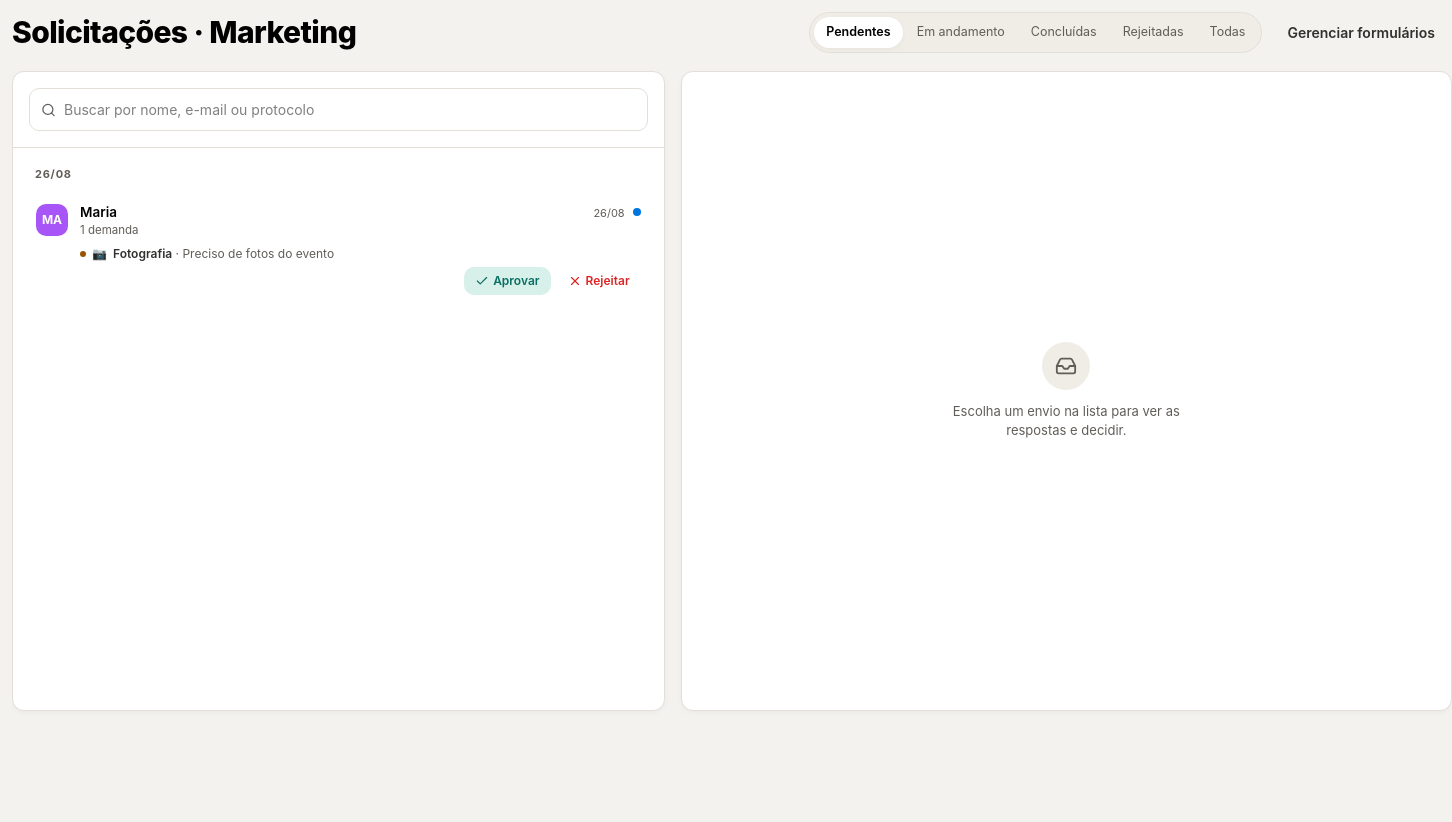
it: um envio SEM telefone, área e polo › ⚠️ o card não mostra separador pendurado
Step 1. Click the text "Maria" → [98, 212], box [80, 204, 117, 220]
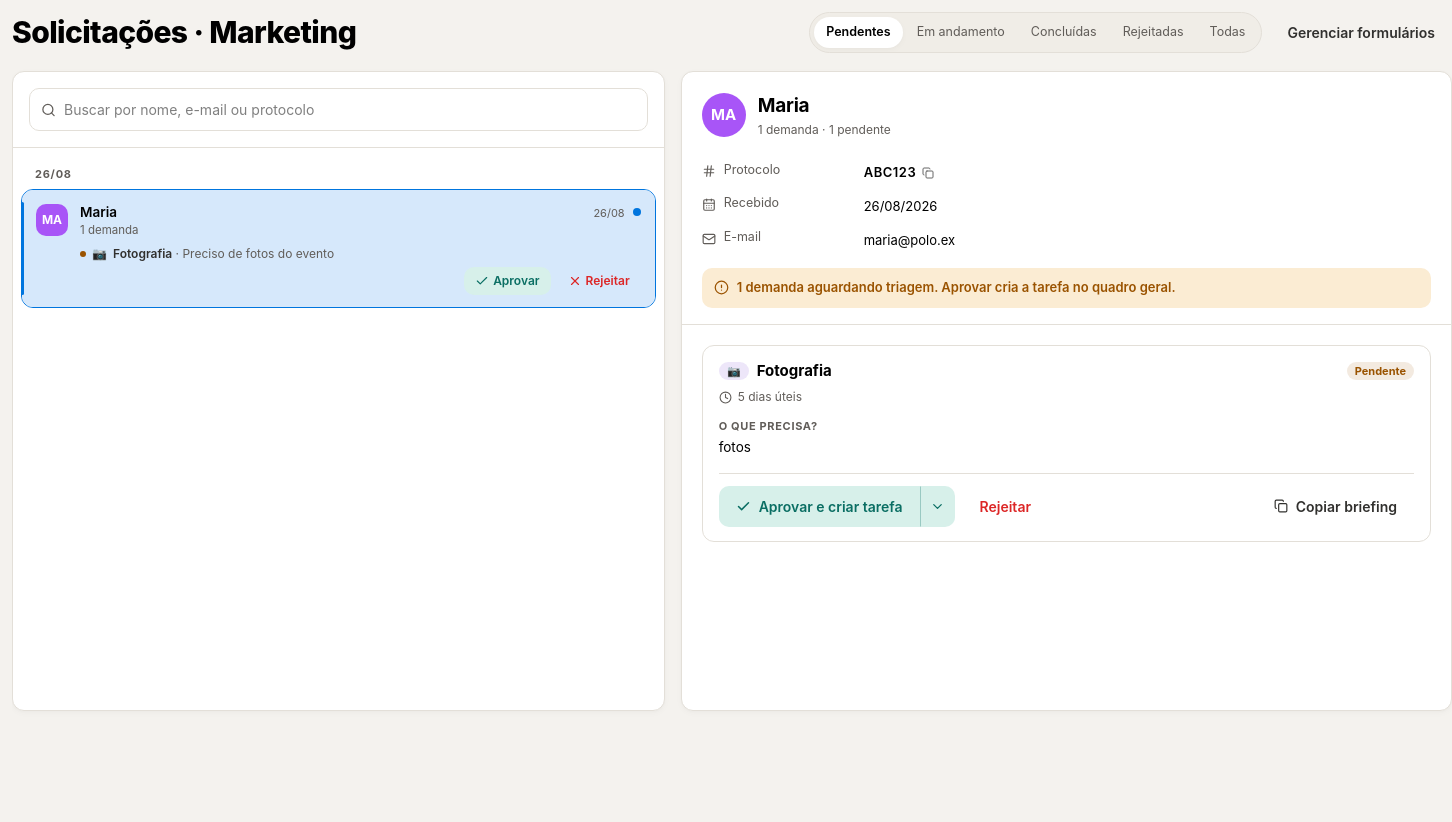
Now the button "Copiar briefing" is shown, box [1257, 486, 1414, 527]
